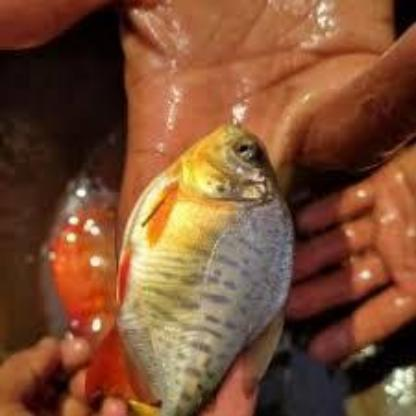ikan-pacu: (122, 116, 290, 414)
